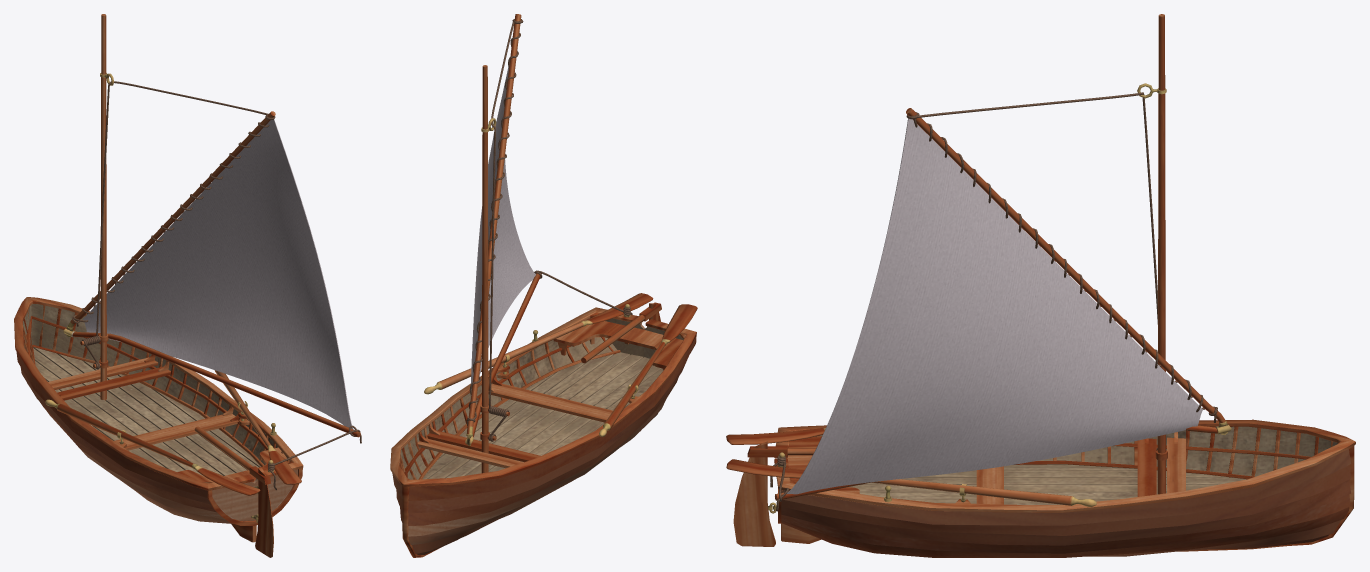
The model's file is rowing_boat.obj.
3 renders of one model, left to right at view 1: azimuth 30°, elevation 25°; view 2: azimuth 150°, elevation 25°; view 3: azimuth 270°, elevation 25°, orthographic. The views are drawn at different scales.
Parts seen in each view (by area): view 1: Plane004_Boat_0; view 2: Plane004_Boat_0; view 3: Plane004_Boat_0.
Boxes of the visible parts, <box> form: Plane004_Boat_0: <box>14,14,361,557</box>; Plane004_Boat_0: <box>390,14,697,557</box>; Plane004_Boat_0: <box>726,14,1355,557</box>.
Bounding box in the file's own units: 3790 × 8045 × 8587.
1 material, 1 textured.
